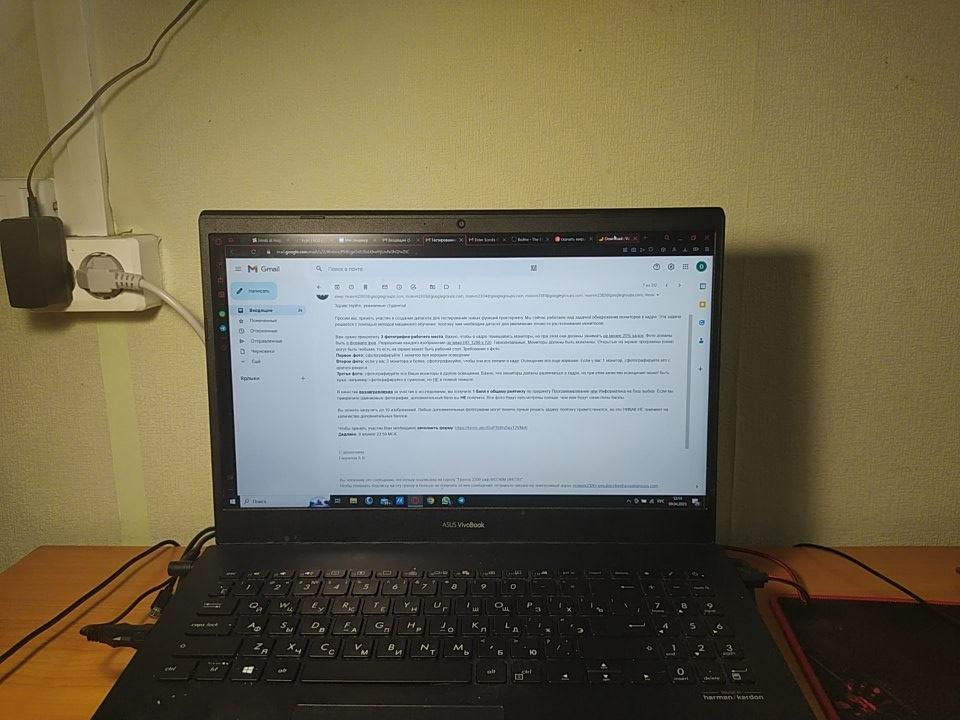monitor: (194, 202, 729, 549)
